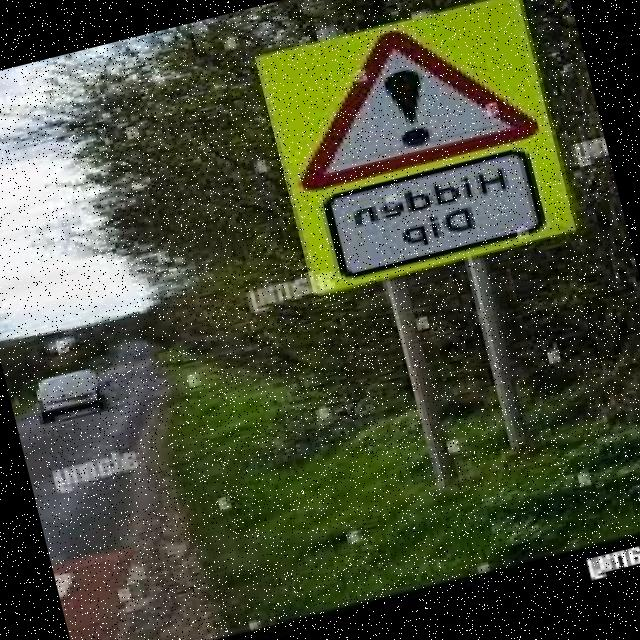warning: (260, 1, 551, 204)
